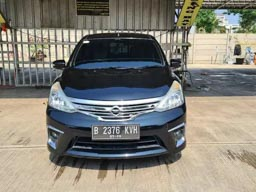plat: (91, 125, 138, 135)
